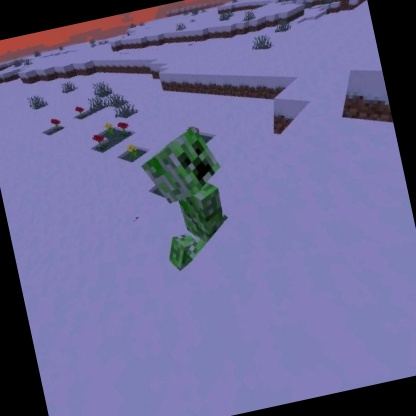creeper: (133, 120, 243, 275)
